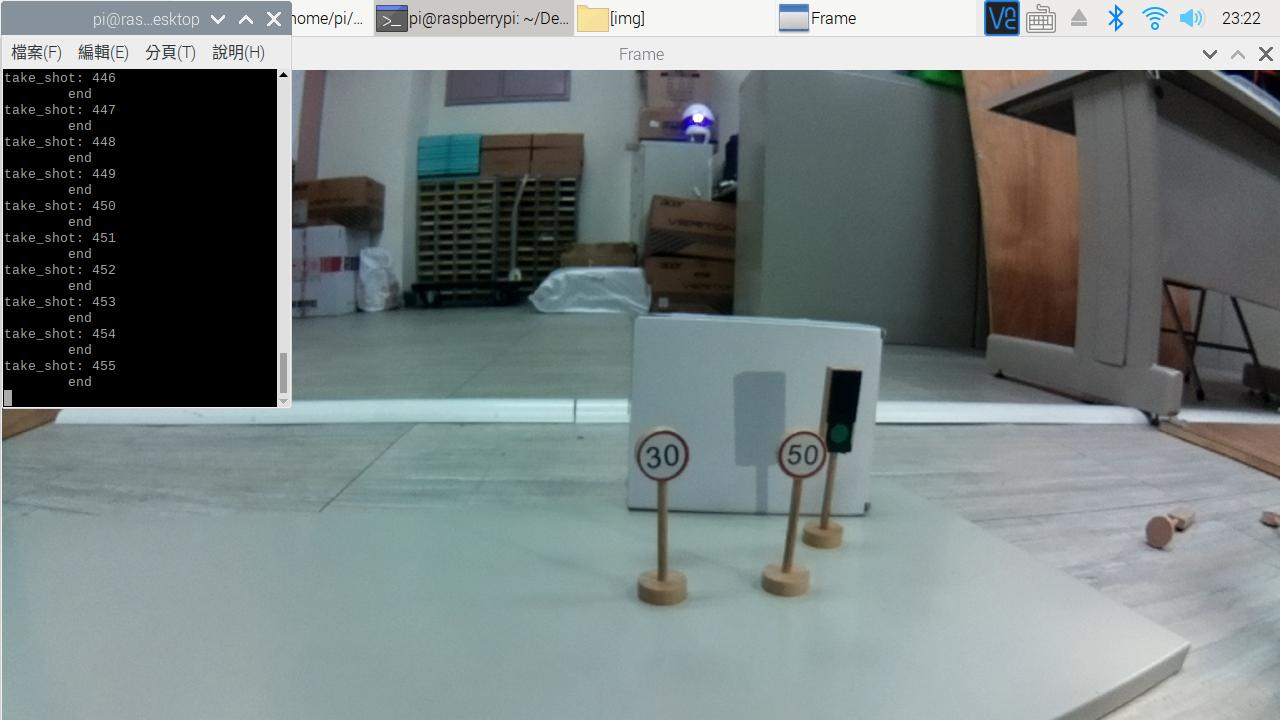Green: (812, 353, 874, 459)
Speed30: (633, 425, 695, 485)
Speed50: (778, 427, 822, 490)
